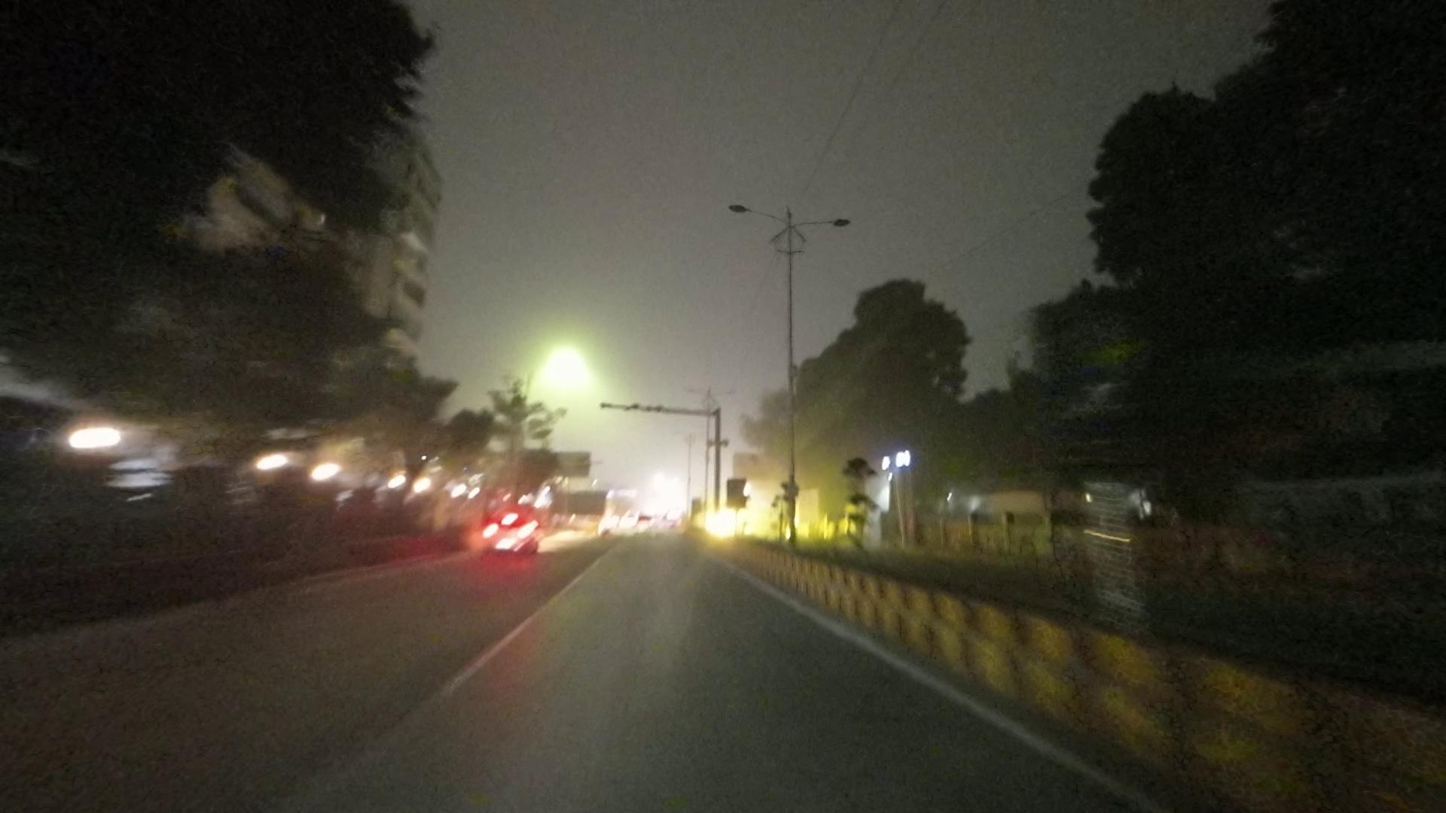streetlight: (728, 202, 786, 222), (795, 214, 853, 231)
